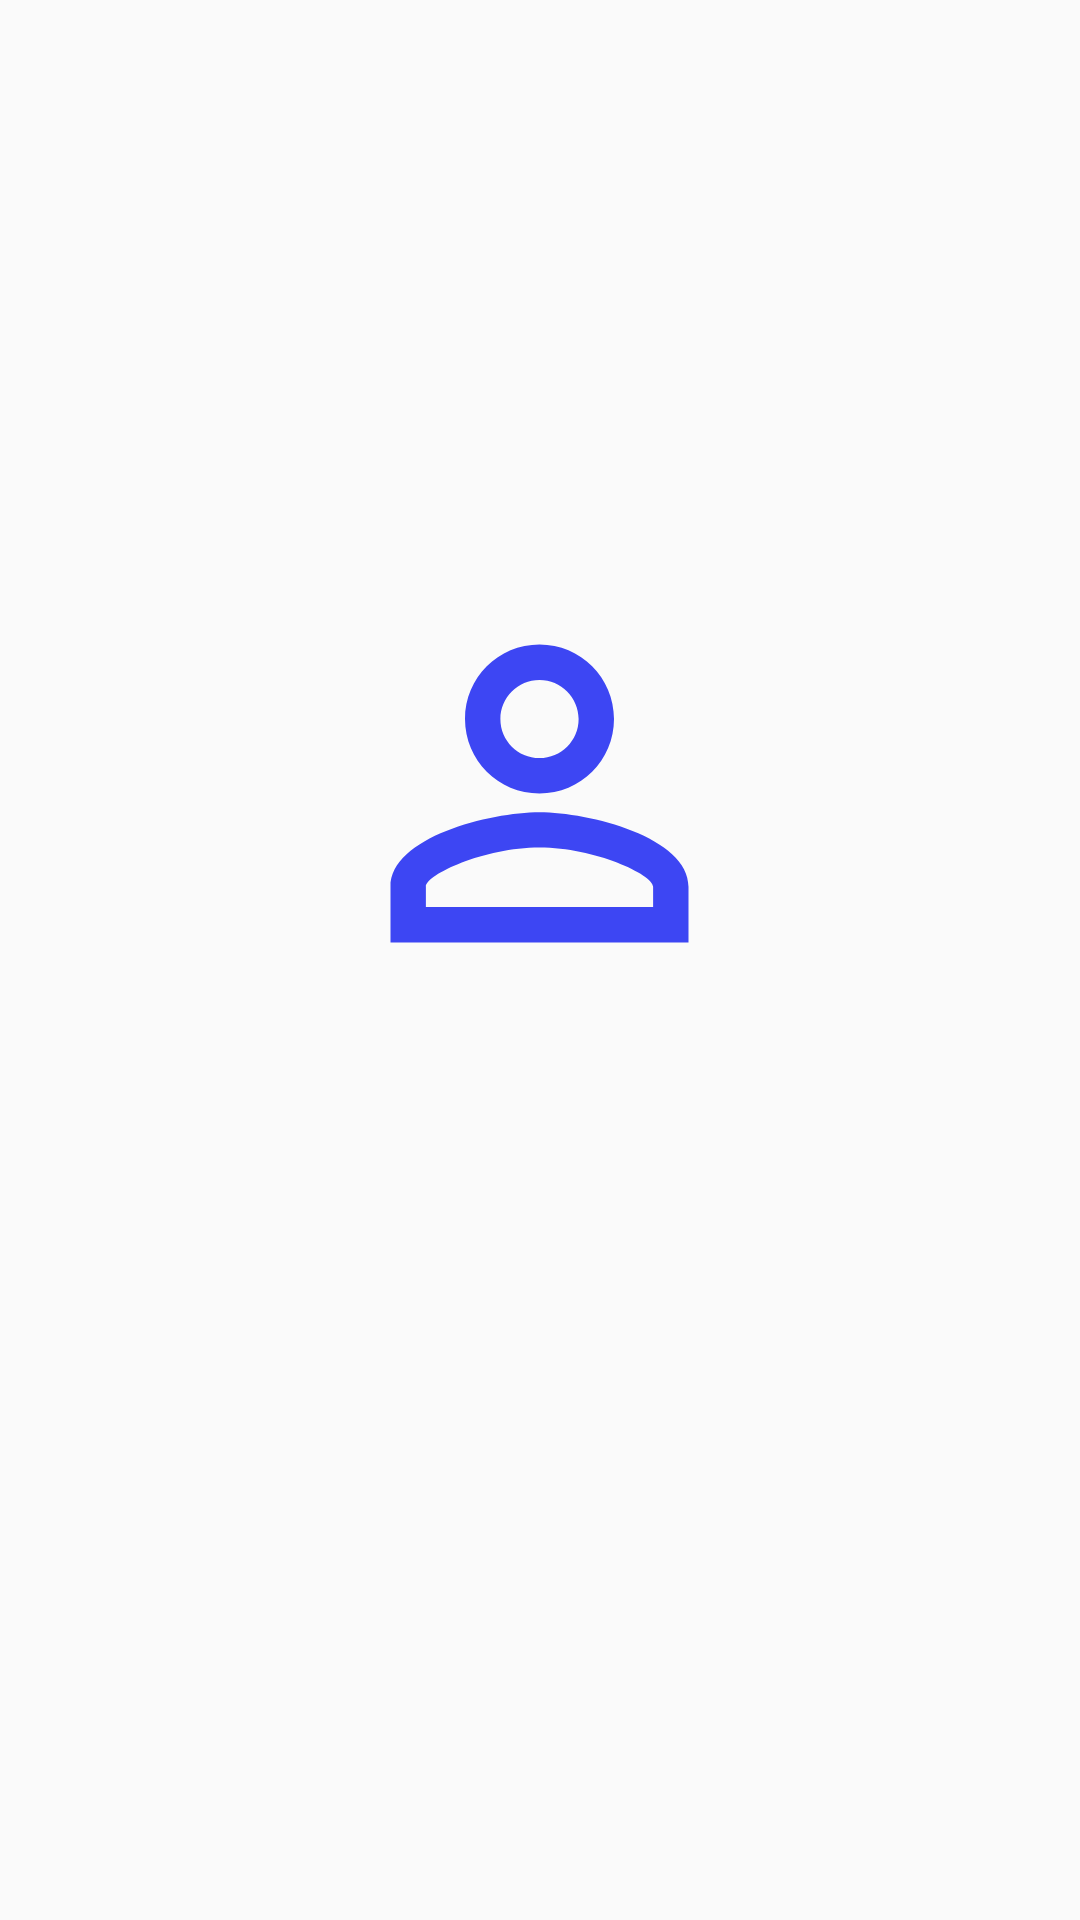

Screen size 1080*1920. Icon name, then its center in pixels as (x,y):
person: (539,793)
